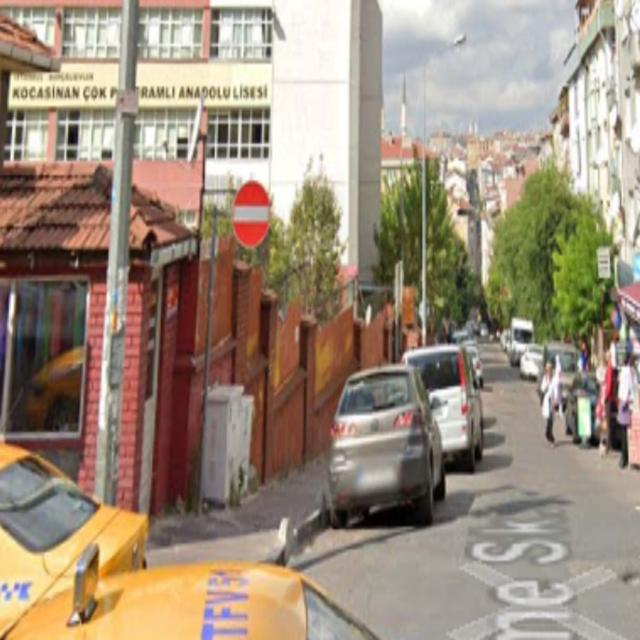girisyok: (233, 181, 273, 250)
